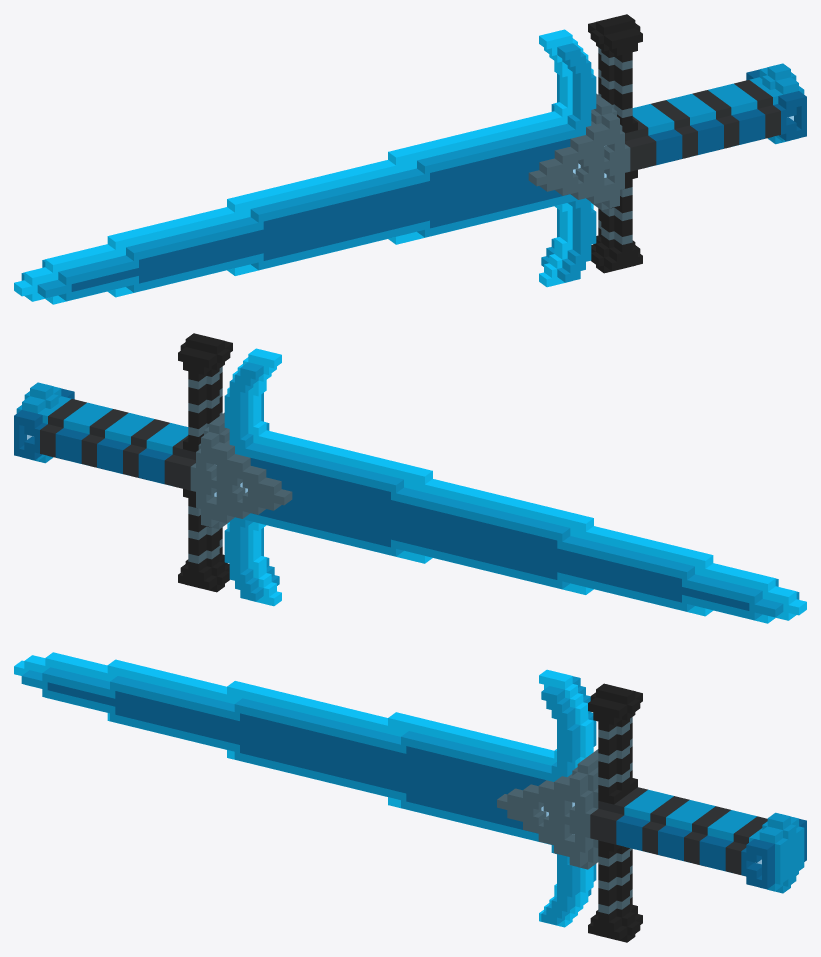
File: swordidk.glb
The picture shows the model from 3 angles, top to bottom: view 1: azimuth 30°, elevation 25°; view 2: azimuth 150°, elevation 25°; view 3: azimuth 330°, elevation 25°; orthographic projection.
Visible parts, largest first — view 1: Sword2; view 2: Sword2; view 3: Sword2.
Part boxes in pixels (x1=…): Sword2: x1=14, y1=14, x2=806, y2=304; Sword2: x1=14, y1=333, x2=806, y2=623; Sword2: x1=14, y1=652, x2=806, y2=942.
Bounding box in the file's own units: 1.93 × 0.5851 × 0.1718.
1 material, 1 textured.
